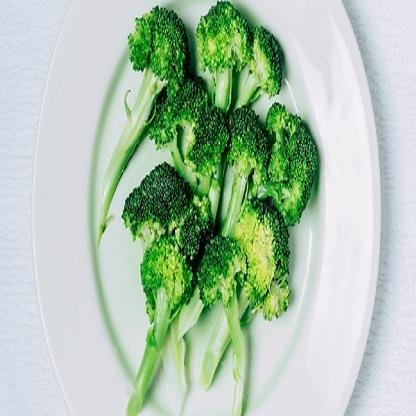broccoli: (88, 1, 320, 415)
